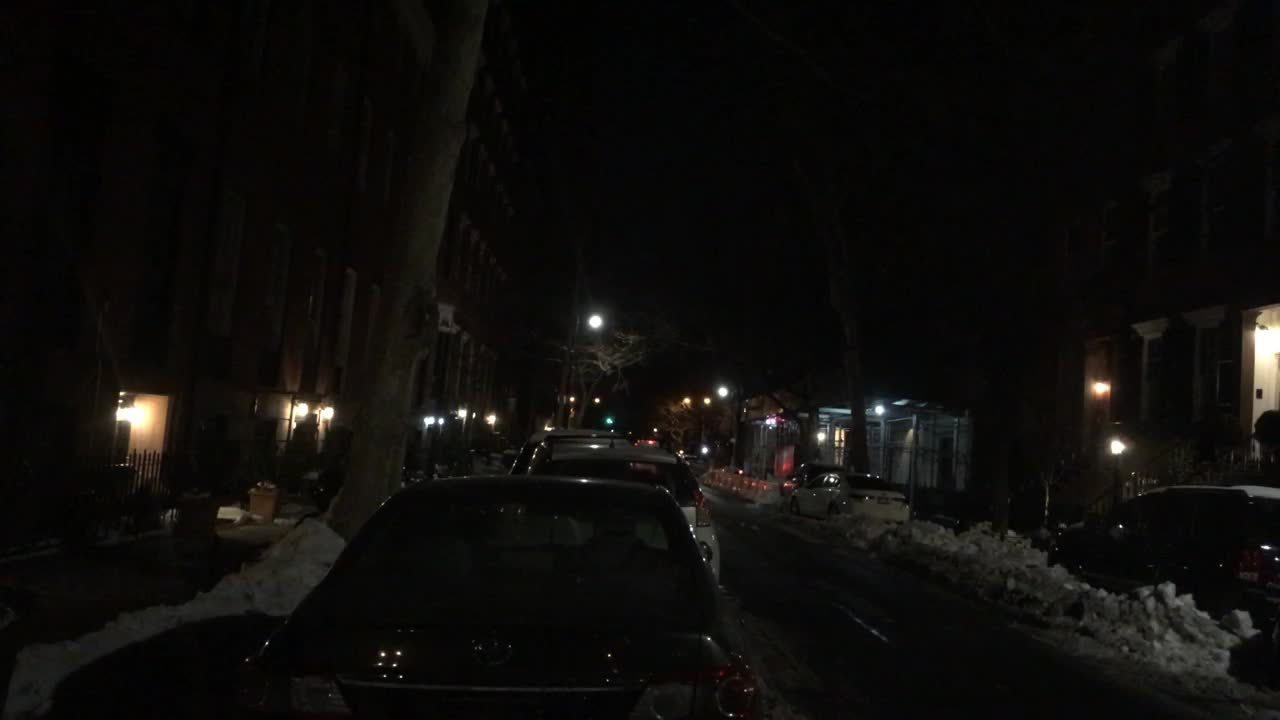car: (242, 478, 768, 716), (527, 438, 718, 588), (1067, 483, 1279, 600), (508, 427, 628, 481), (788, 470, 914, 518), (1236, 528, 1279, 643), (675, 448, 710, 471), (781, 471, 799, 496), (630, 436, 661, 447)
traffic light: (772, 413, 782, 431), (600, 413, 614, 425)
